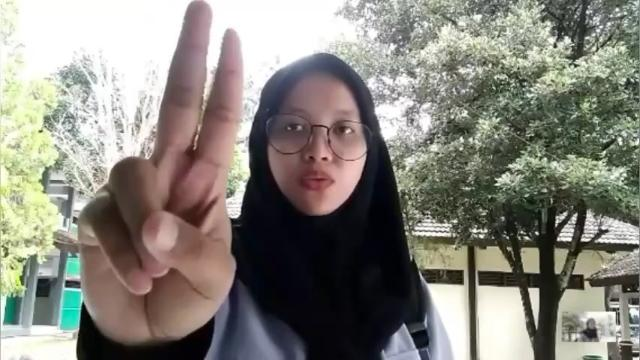U: (59, 0, 245, 342)
